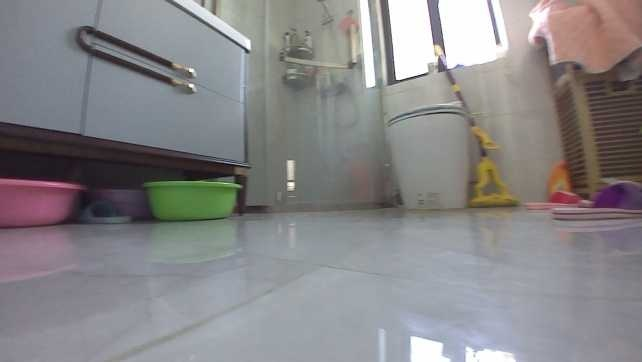slipper: (550, 178, 641, 220)
toilet: (383, 99, 475, 211)
washstand: (0, 0, 255, 216)
